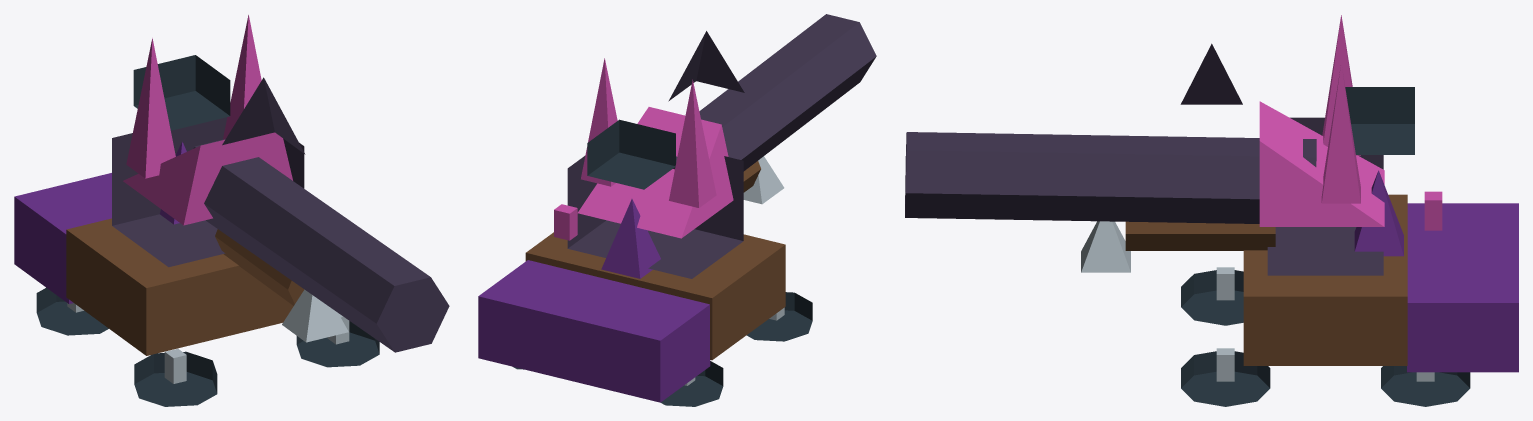
The model's file is heavy-artillery.obj.
3 views of the same model, side by side, from view 1: azimuth 30°, elevation 25°; view 2: azimuth 150°, elevation 25°; view 3: azimuth 270°, elevation 25° (orthographic). The views are drawn at different scales.
Parts seen in each view (by area): view 1: siege; view 2: siege; view 3: siege.
Boxes of the visible parts, left/top/right/bottom form: siege: left=14, top=15, right=449, bottom=406; siege: left=478, top=14, right=876, bottom=406; siege: left=905, top=15, right=1518, bottom=406.
Bounding box in the file's own units: 1.42 × 1.74 × 3.13.
